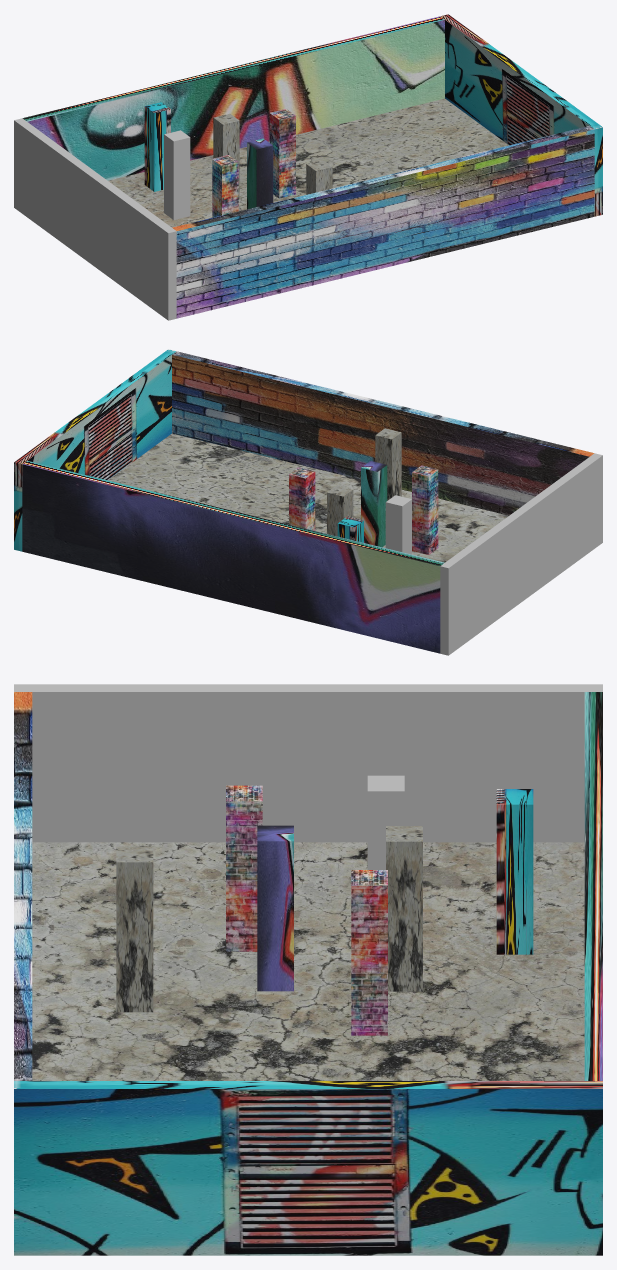
The model's file is arena_v2.dae.
3 views of the same model, one above another, from view 1: azimuth 30°, elevation 25°; view 2: azimuth 150°, elevation 25°; view 3: azimuth 270°, elevation 25° (orthographic). The views are drawn at different scales.
Visible parts, largest first — view 1: Cube.002, Cube.001, Cube.004, Cube, Cube.003, Cube.011, Cube.007, Cube.005, Cube.009, Cube.006, Cube.010, Cube.008; view 2: Cube.001, Cube.002, Cube.004, Cube, Cube.003, Cube.006, Cube.009, Cube.007, Cube.011, Cube.008, Cube.010, Cube.005; view 3: Cube.003, Cube, Cube.004, Cube.002, Cube.001, Cube.008, Cube.005, Cube.009, Cube.007, Cube.010, Cube.006, Cube.011.
Part boxes in pixels (<box>): Cube.002: <box>172,126,594,318</box>; Cube.001: <box>22,16,444,180</box>; Cube.004: <box>14,118,176,320</box>; Cube: <box>108,98,508,227</box>; Cube.003: <box>440,14,602,216</box>; Cube.011: <box>164,130,190,219</box>; Cube.007: <box>269,109,295,198</box>; Cube.005: <box>144,102,170,191</box>; Cube.009: <box>247,138,273,209</box>; Cube.006: <box>212,155,238,217</box>; Cube.010: <box>213,113,239,199</box>; Cube.008: <box>306,160,332,194</box>; Cube.001: <box>22,461,444,653</box>; Cube.002: <box>172,351,594,515</box>; Cube.004: <box>440,453,602,655</box>; Cube: <box>108,433,508,562</box>; Cube.003: <box>14,349,176,551</box>; Cube.006: <box>412,465,438,554</box>; Cube.009: <box>361,461,387,547</box>; Cube.007: <box>289,467,315,530</box>; Cube.011: <box>385,495,411,554</box>; Cube.008: <box>375,428,401,500</box>; Cube.010: <box>327,485,353,536</box>; Cube.005: <box>337,516,363,542</box>; Cube.003: <box>14,1081,602,1255</box>; Cube: <box>32,842,584,1080</box>; Cube.004: <box>14,684,602,842</box>; Cube.002: <box>14,692,32,1080</box>; Cube.001: <box>584,692,602,1080</box>; Cube.008: <box>116,846,153,1012</box>; Cube.005: <box>496,789,533,954</box>; Cube.009: <box>257,825,293,991</box>; Cube.007: <box>351,870,387,1035</box>; Cube.010: <box>386,826,422,991</box>; Cube.006: <box>226,785,262,951</box>; Cube.011: <box>367,775,404,869</box>.
Bounding box in the file's own units: 26 × 16 × 5.
